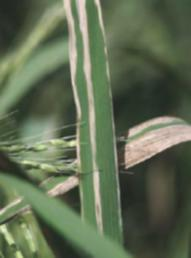2 BacterialBlight: (61, 1, 127, 237)
